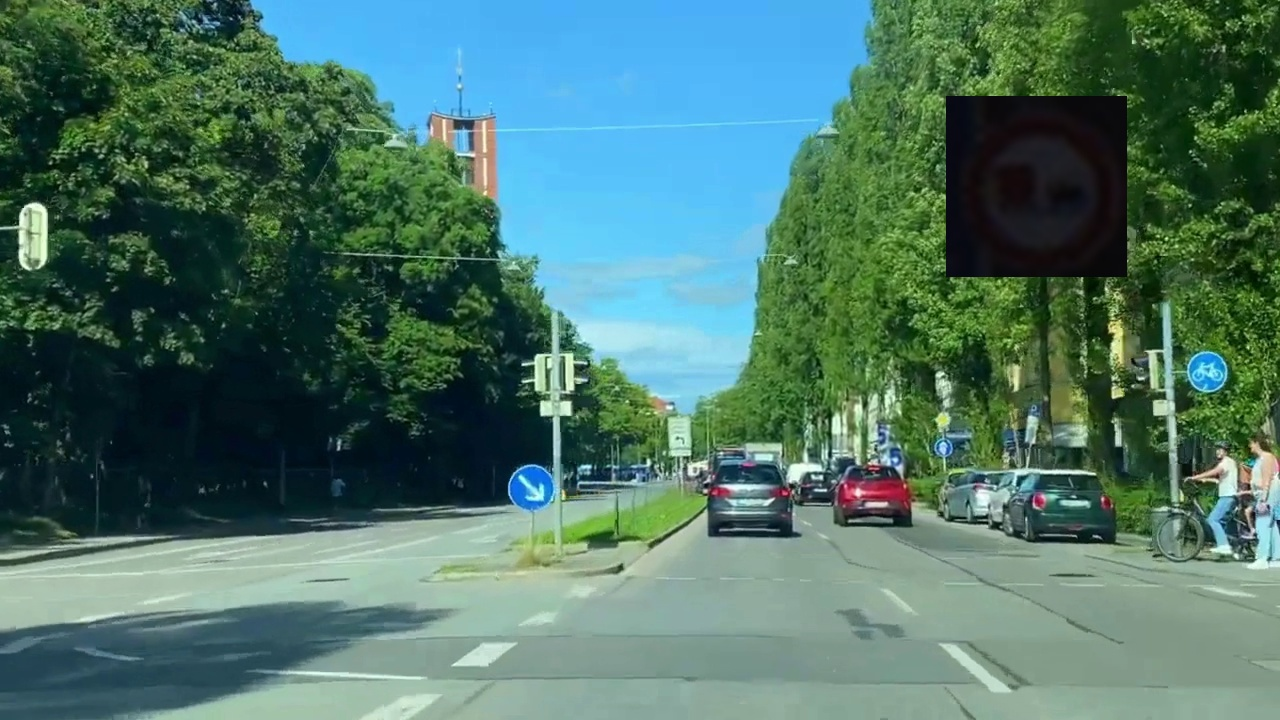No pass >3.5t: (946, 96, 1127, 277)
